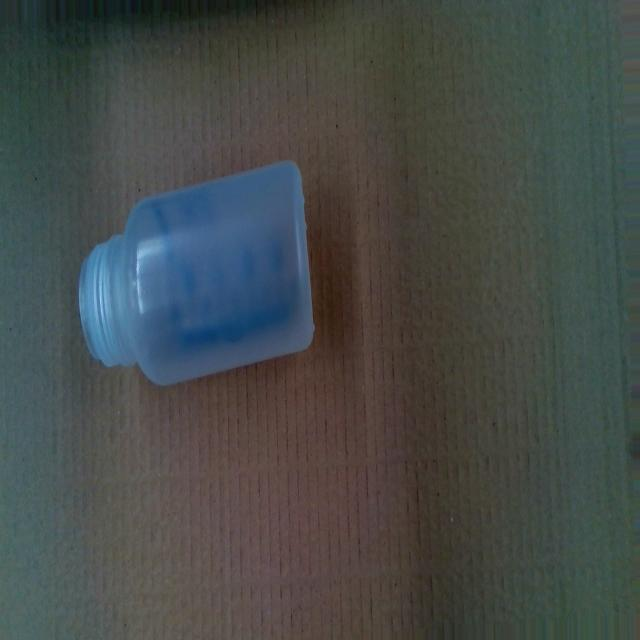bottle: (76, 157, 320, 390)
